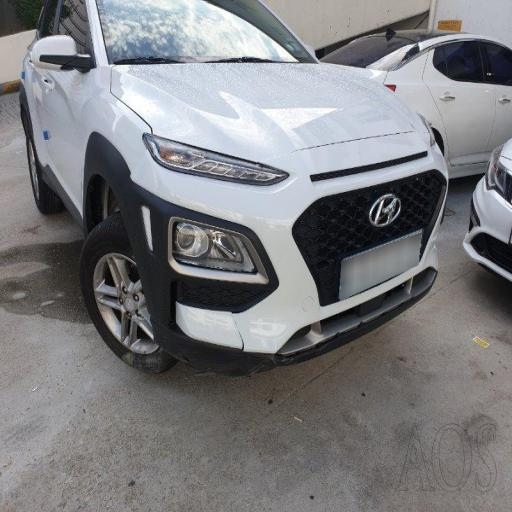broken: (197, 293, 276, 402)
dent: (51, 72, 129, 157)
